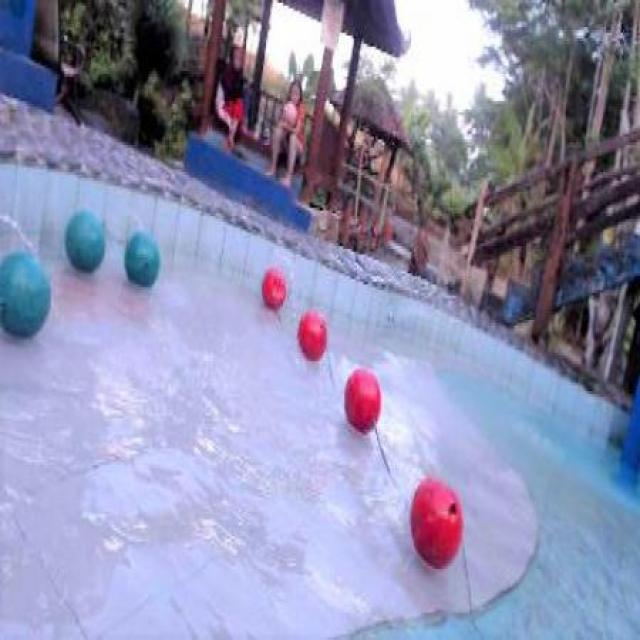buoy: (0, 246, 53, 340), (409, 473, 461, 567), (62, 208, 106, 273), (342, 367, 380, 432), (121, 230, 159, 289), (297, 310, 327, 363), (260, 266, 288, 310)
